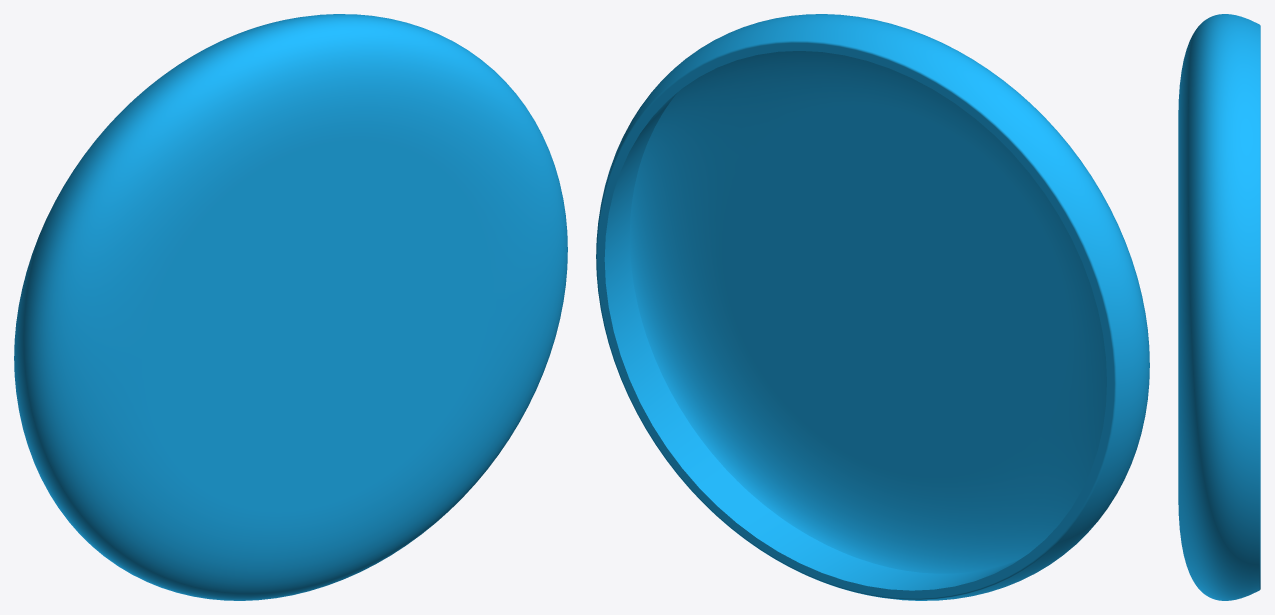
File: FrisbeeOG.glb
The picture shows the model from 3 angles, left to right: view 1: azimuth 30°, elevation 25°; view 2: azimuth 150°, elevation 25°; view 3: azimuth 270°, elevation 25°; orthographic projection. The views are drawn at different scales.
Parts seen in each view (by area): view 1: UnnamedGLTFNode_TRS (×2); view 2: UnnamedGLTFNode_TRS (×6); view 3: UnnamedGLTFNode_TRS (×2).
Part boxes in pixels (x1,y1,x2,y2): UnnamedGLTFNode_TRS (×2): [14, 14, 567, 600]; UnnamedGLTFNode_TRS (×6): [596, 14, 1149, 600]; UnnamedGLTFNode_TRS (×2): [1178, 14, 1260, 600].
Size of what is drawn, in the model's own units: 0.2495 by 0.2494 by 0.035.
